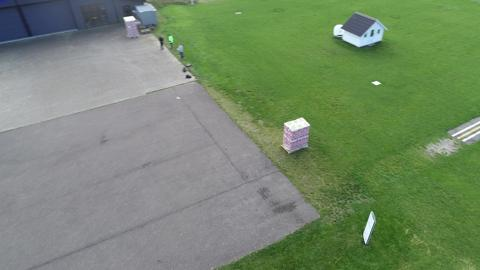RockwoolPallet: (123, 15, 139, 39)
